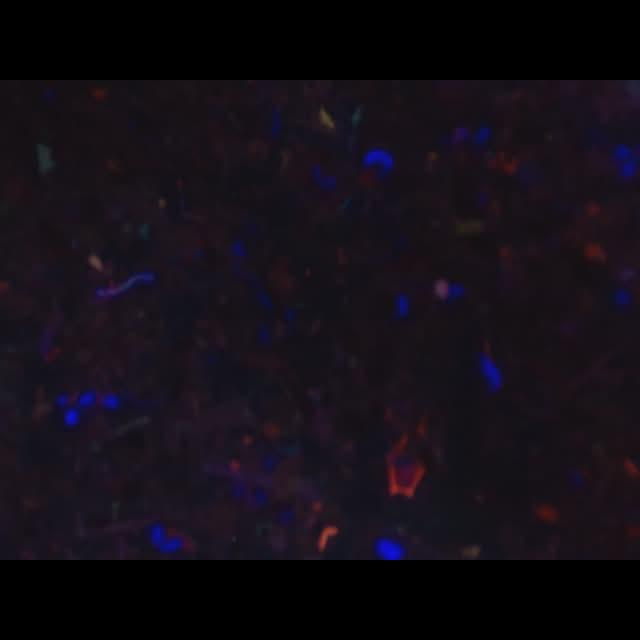Fibre: (36, 140, 56, 174)
